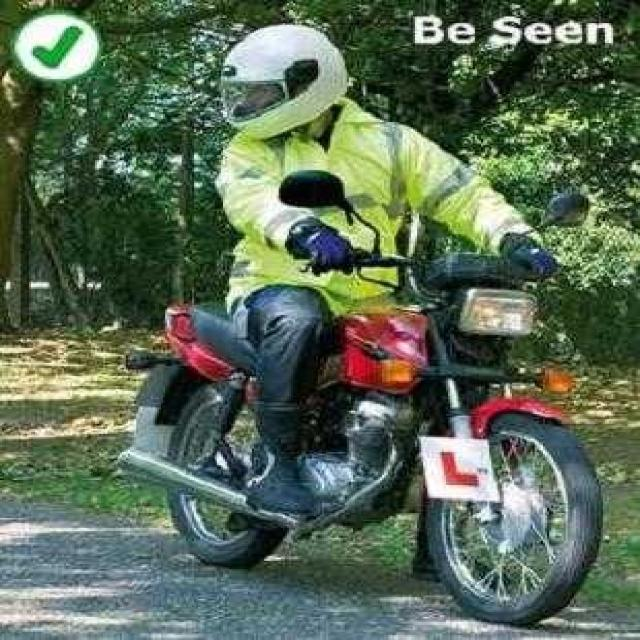motorcycle: (117, 168, 602, 625)
